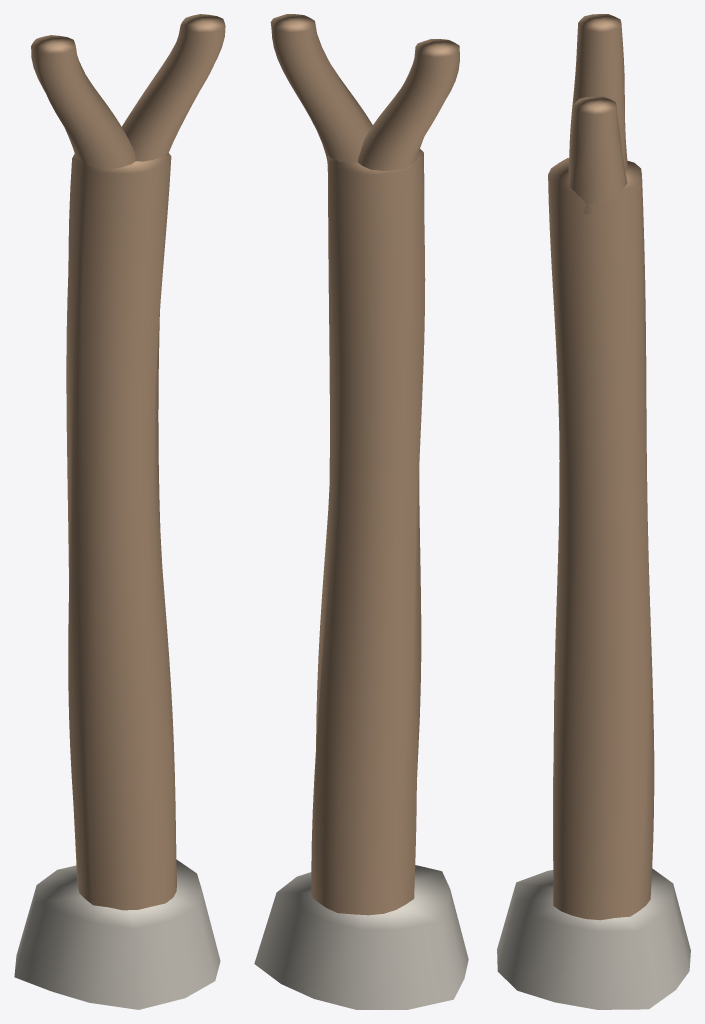
Rendered from bagana-f2-3x13x3-v2.glb.
The picture shows the model from 3 angles, left to right: view 1: azimuth 30°, elevation 25°; view 2: azimuth 150°, elevation 25°; view 3: azimuth 270°, elevation 25°; orthographic projection. The views are drawn at different scales.
Visible parts, largest first — view 1: bagana_wood, bagana_stone; view 2: bagana_wood, bagana_stone; view 3: bagana_wood, bagana_stone.
Boxes of the visible parts, x1,y1,x2,y2 form: bagana_wood: (31, 14, 225, 910); bagana_stone: (14, 859, 220, 1009); bagana_wood: (270, 14, 459, 915); bagana_stone: (254, 865, 468, 1009); bagana_wood: (548, 14, 654, 920); bagana_stone: (497, 868, 690, 1009).
Bounding box in the file's own units: 0.7085 × 3.25 × 0.6269.
